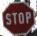Stop sign: (0, 0, 36, 35)
